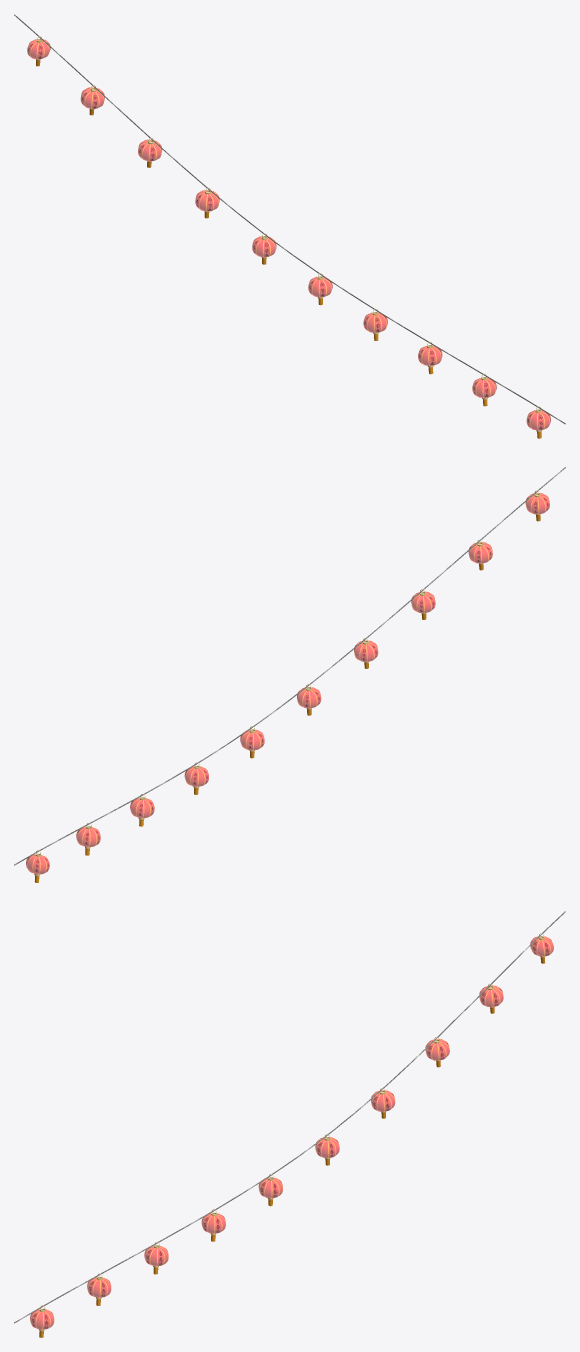
File: SM_lamp_spline_Splines_26.fbx
3 renders of one model, top to bottom at view 1: azimuth 30°, elevation 25°; view 2: azimuth 150°, elevation 25°; view 3: azimuth 330°, elevation 25°, orthographic.
Visible parts, largest first — view 1: SM_lamp_spline_Splines_26; view 2: SM_lamp_spline_Splines_26; view 3: SM_lamp_spline_Splines_26.
Part boxes in pixels (<box>): SM_lamp_spline_Splines_26: <box>14,14,565,438</box>; SM_lamp_spline_Splines_26: <box>14,467,565,882</box>; SM_lamp_spline_Splines_26: <box>14,911,565,1337</box>.
Size of the model in its own units: 68.54 by 2462 by 180.
